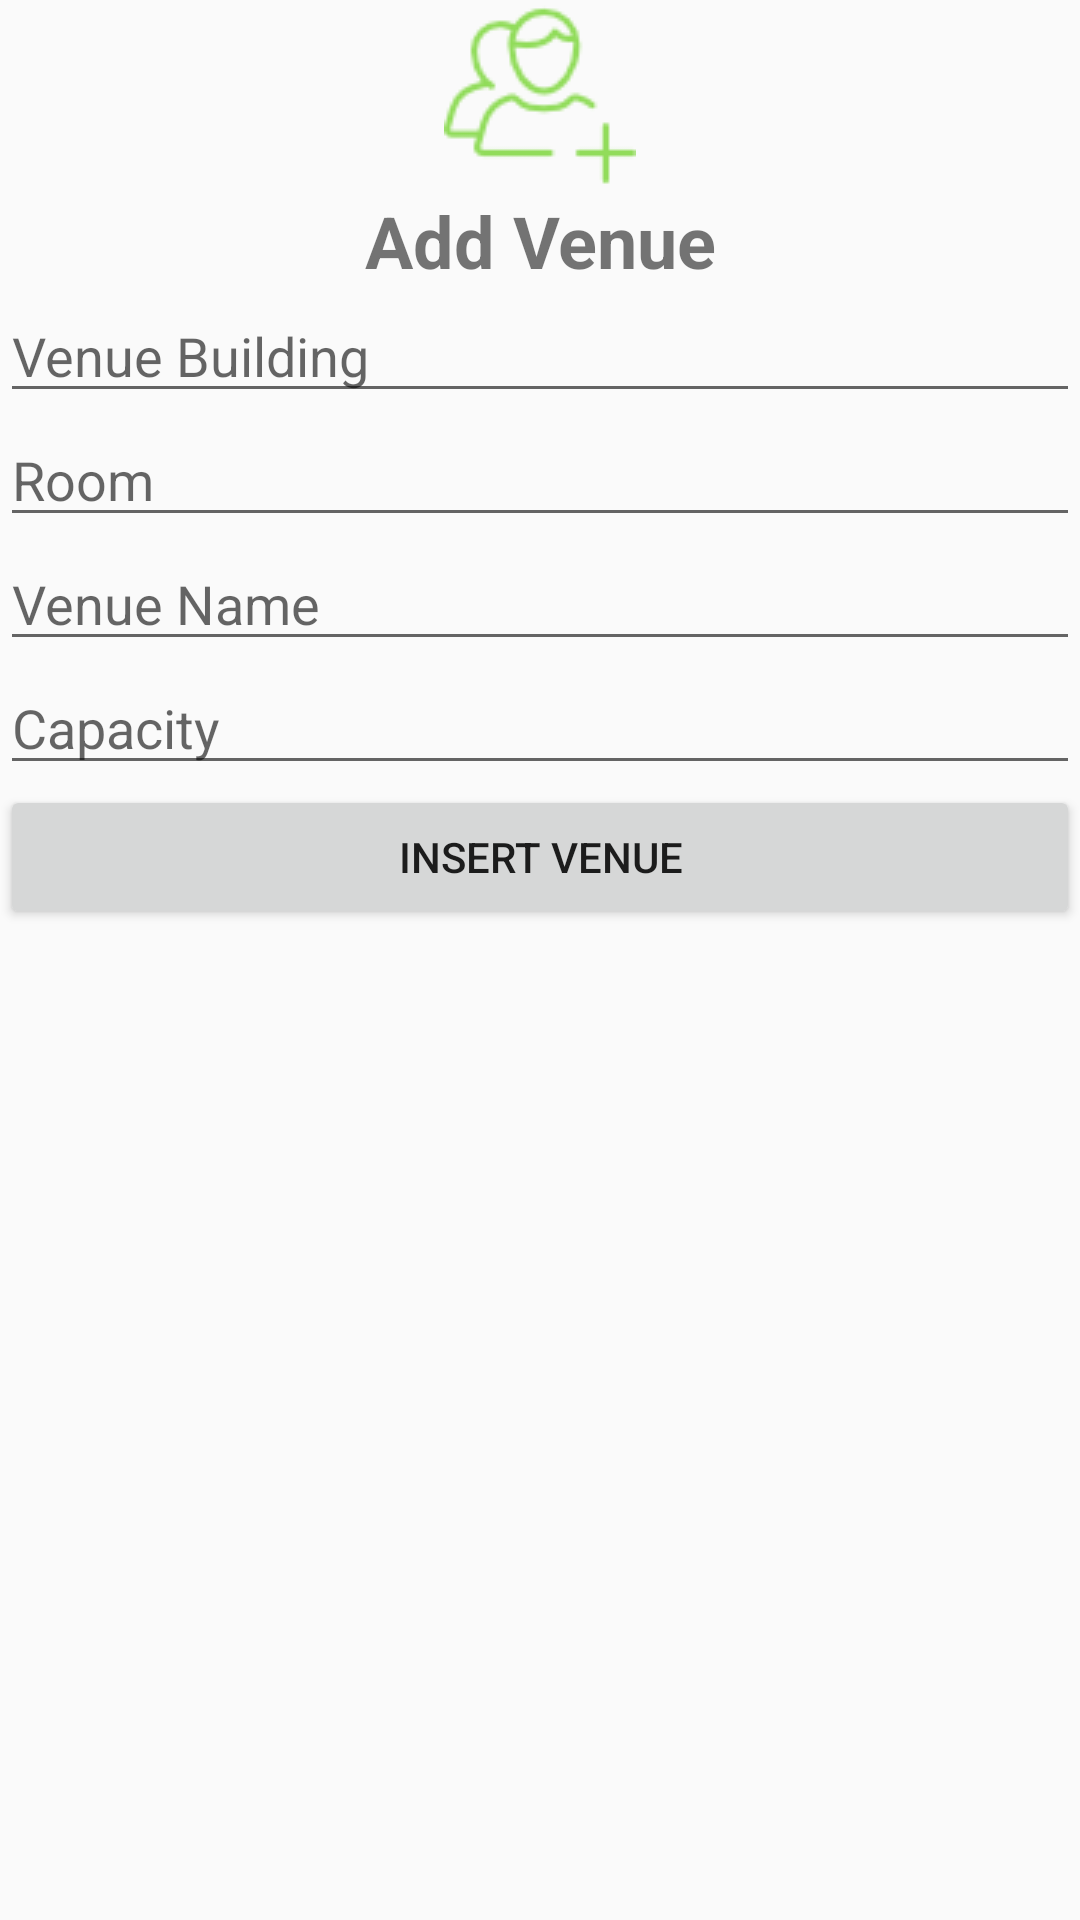

Named icons in this screenshot (1080 × 1920) and their centers, point (x, y):
adduser: point (540, 96)
